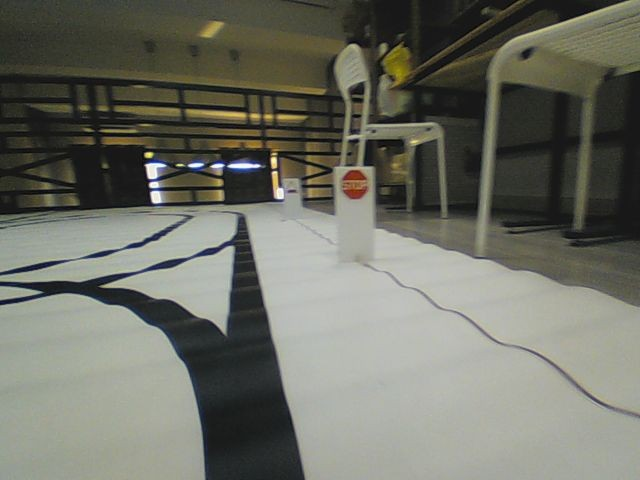Stop: (340, 169, 368, 200)
